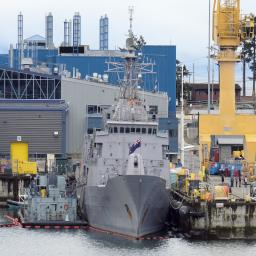Fragata: (80, 5, 174, 242)
